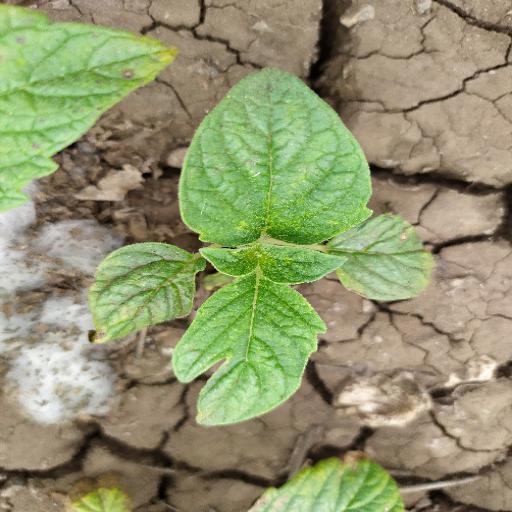crop: (84, 50, 458, 446)
